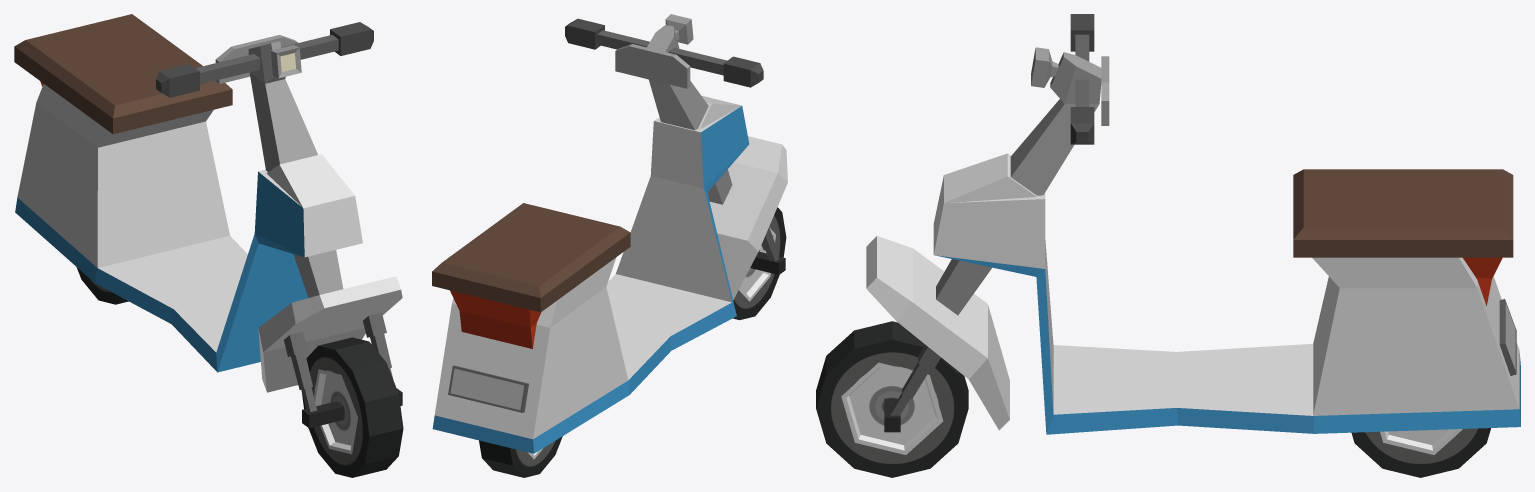
Rendered from Scooter.fbx.
3 views of the same model, side by side, from view 1: azimuth 30°, elevation 25°; view 2: azimuth 150°, elevation 25°; view 3: azimuth 270°, elevation 25° (orthographic). The views are drawn at different scales.
Visible parts, largest first — view 1: Scooter, Handle, WheeF, WheeB; view 2: Scooter, Handle, WheeF, WheeB; view 3: Scooter, Handle, WheeF, WheeB.
Part boxes in pixels (box(x1,y1,x2,y2)): Scooter: box(14, 14, 362, 372); Handle: box(156, 22, 402, 428); WheeF: box(302, 337, 403, 477); WheeB: box(76, 267, 128, 304); Scooter: box(432, 95, 749, 453); Handle: box(565, 14, 787, 300); WheeF: box(733, 207, 786, 320); WheeB: box(479, 436, 562, 477); Scooter: box(933, 153, 1520, 434); Handle: box(866, 14, 1109, 432); WheeF: box(816, 321, 968, 477); WheeB: box(1351, 428, 1490, 477).
Bounding box in the file's own units: 74.98 × 125 × 193.
